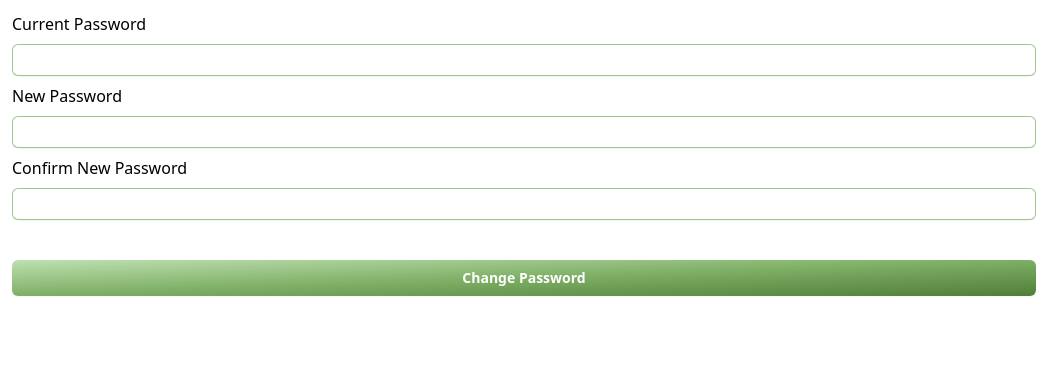
it: UpdatePasswordForm › displays error message if new passwords do not match
Type "oldpassword" into the password field labelled "Current Password". click: (524, 60)
box: 12,44 -> 1036,76
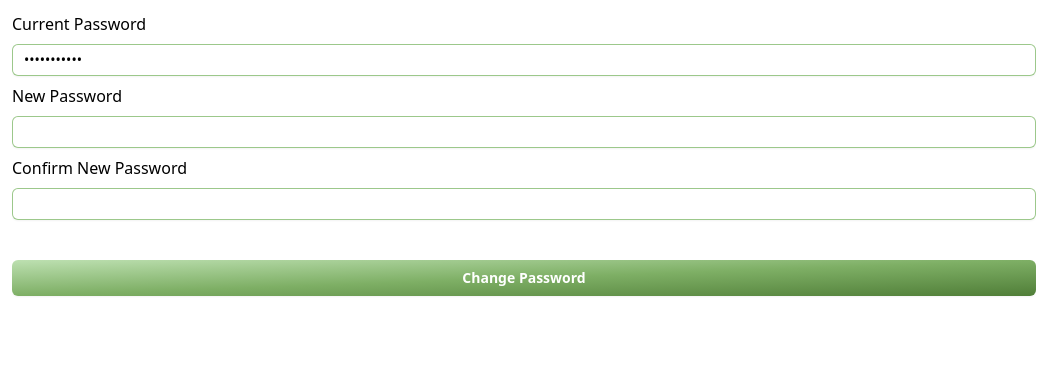
Type "newpassword" into the password field labelled "New Password". click: (524, 132)
box: 12,116 -> 1036,148
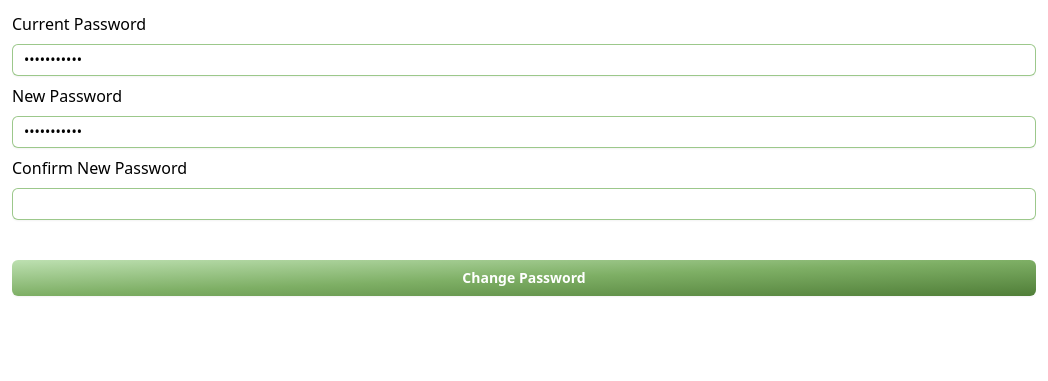
Type "differentpassword" into the password field labelled "Confirm New Password". click: (524, 204)
box: 12,188 -> 1036,220
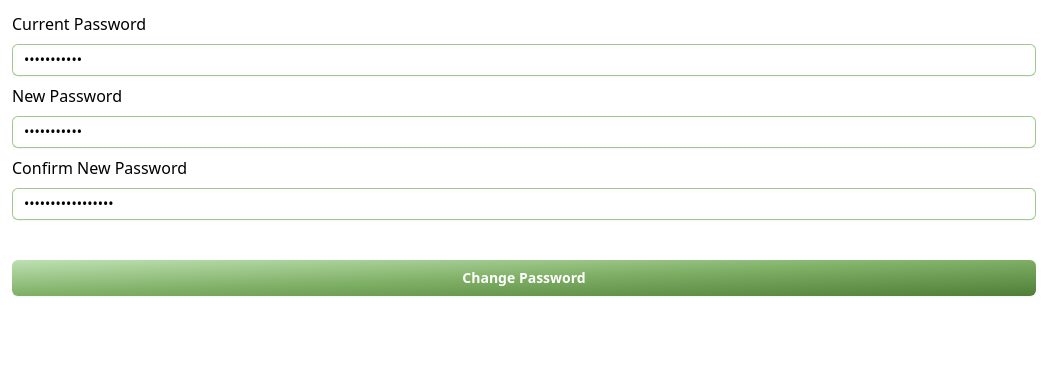
Submit the form from the button "Change Password", box 12,260 -> 1036,296
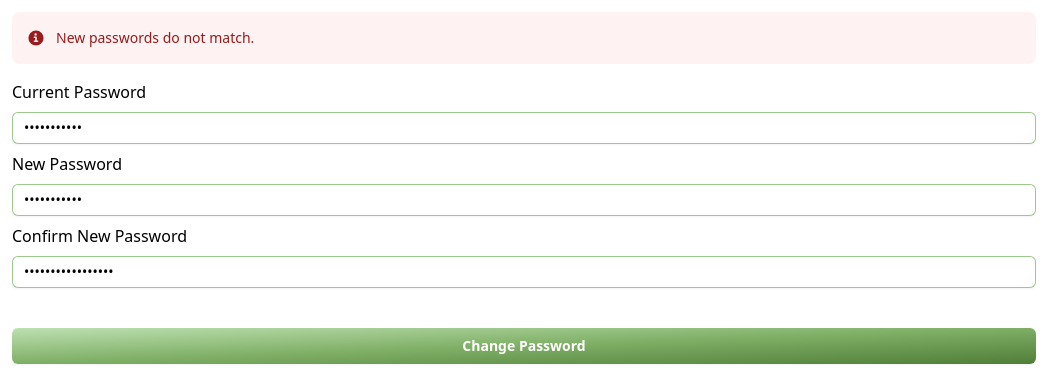
Expected: the text "New passwords do not match." is shown, 56,28 -> 254,48
